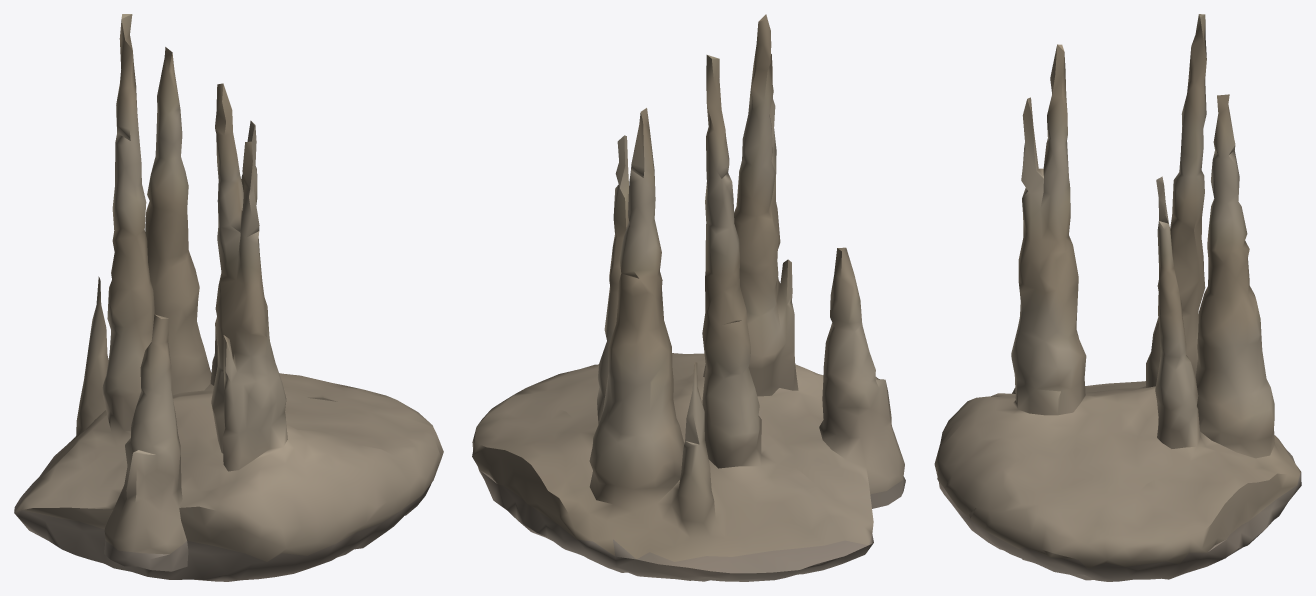
Rendered from stalagmite_cluster_a.bc1f9c2a.glb.
3 views of the same model, side by side, from view 1: azimuth 30°, elevation 25°; view 2: azimuth 150°, elevation 25°; view 3: azimuth 270°, elevation 25° (orthographic). The views are drawn at different scales.
Parts seen in each view (by area): view 1: stalagmite_cluster_a; view 2: stalagmite_cluster_a; view 3: stalagmite_cluster_a.
Part boxes in pixels (left/top/right/bottom): stalagmite_cluster_a: left=14, top=14, right=443, bottom=581; stalagmite_cluster_a: left=472, top=14, right=905, bottom=581; stalagmite_cluster_a: left=934, top=14, right=1301, bottom=581.
Bounding box in the file's own units: 1.06 × 1.34 × 0.906.
